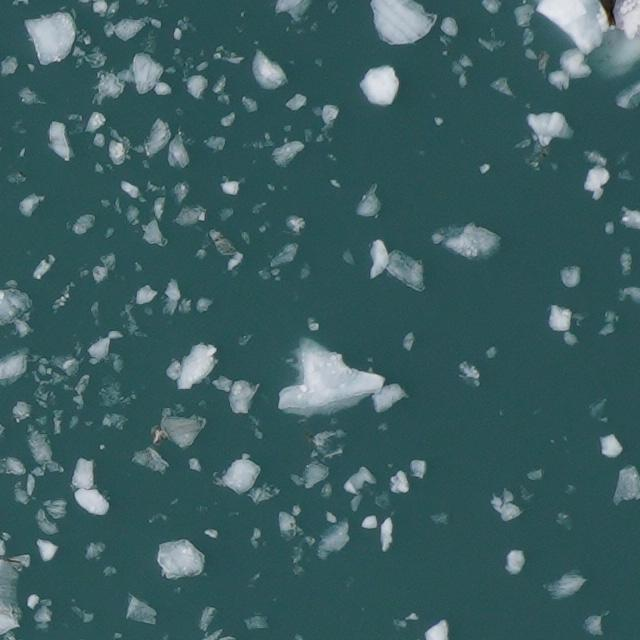seal: (599, 0, 615, 25)
